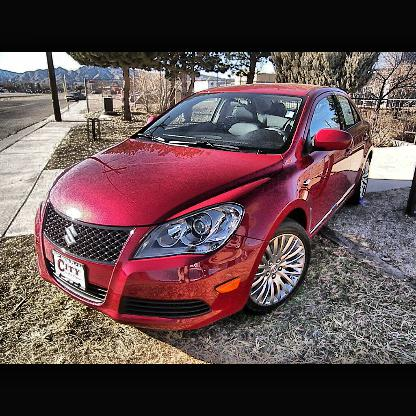Suzuki Kizashi Sedan 2012: (32, 82, 377, 333)
